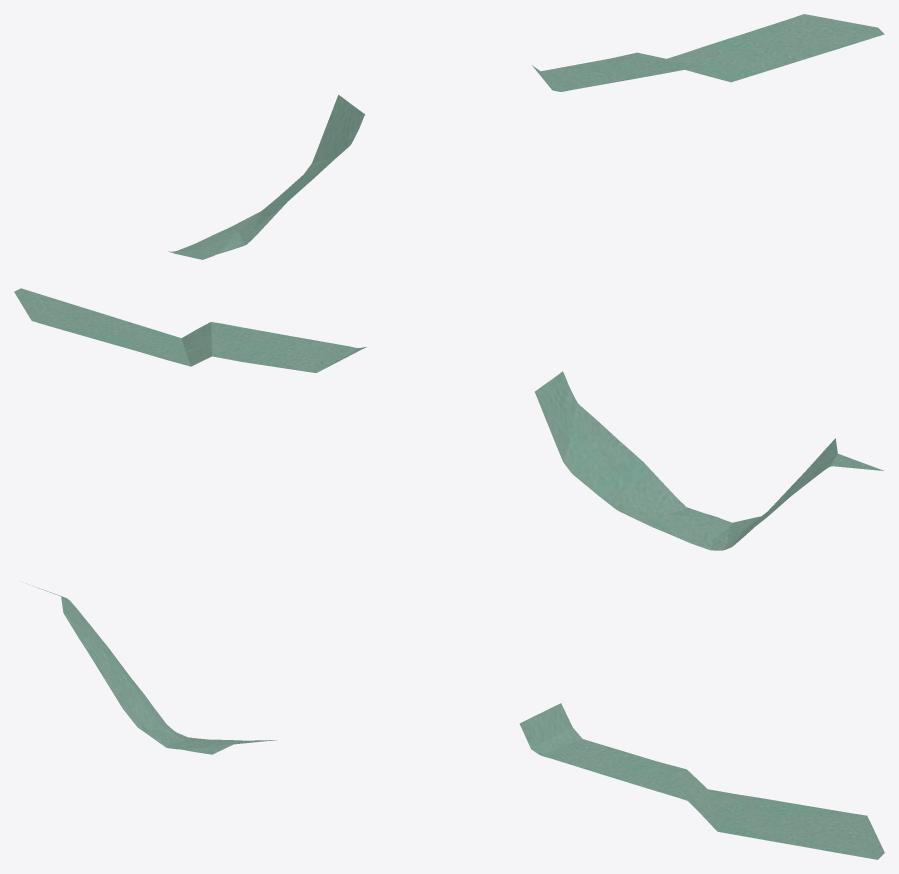
The model's file is Tile_+008_+008_L19_00020.glb.
3 views of the same model, one above another, from view 1: azimuth 30°, elevation 25°; view 2: azimuth 150°, elevation 25°; view 3: azimuth 330°, elevation 25° (orthographic). The views are drawn at different scales.
Visible parts, largest first — view 1: rtc; view 2: rtc; view 3: rtc.
Boxes of the visible parts, x1=… form: rtc: x1=168, y1=14, x2=884, y2=259; rtc: x1=14, y1=288, x2=883, y2=550; rtc: x1=26, y1=583, x2=884, y2=859.
Size of the model in its own units: 47.25 by 6.06 by 3.44.
Materials: 1 (1 with a texture image).
